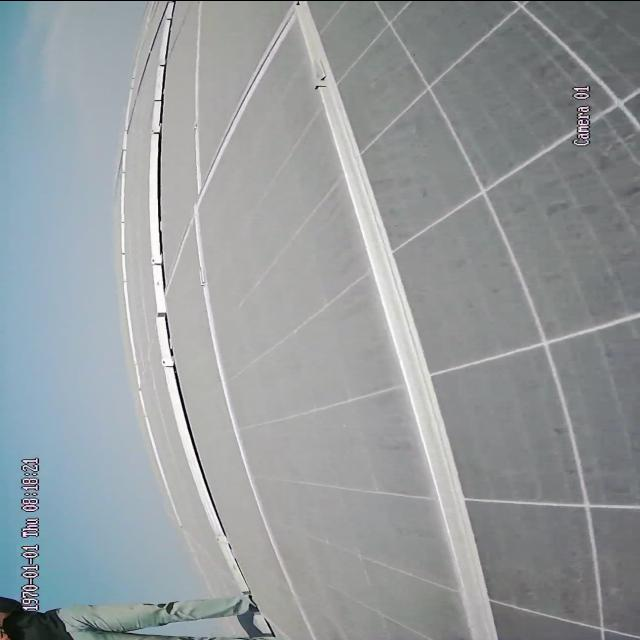interior panel: (199, 3, 500, 640)
